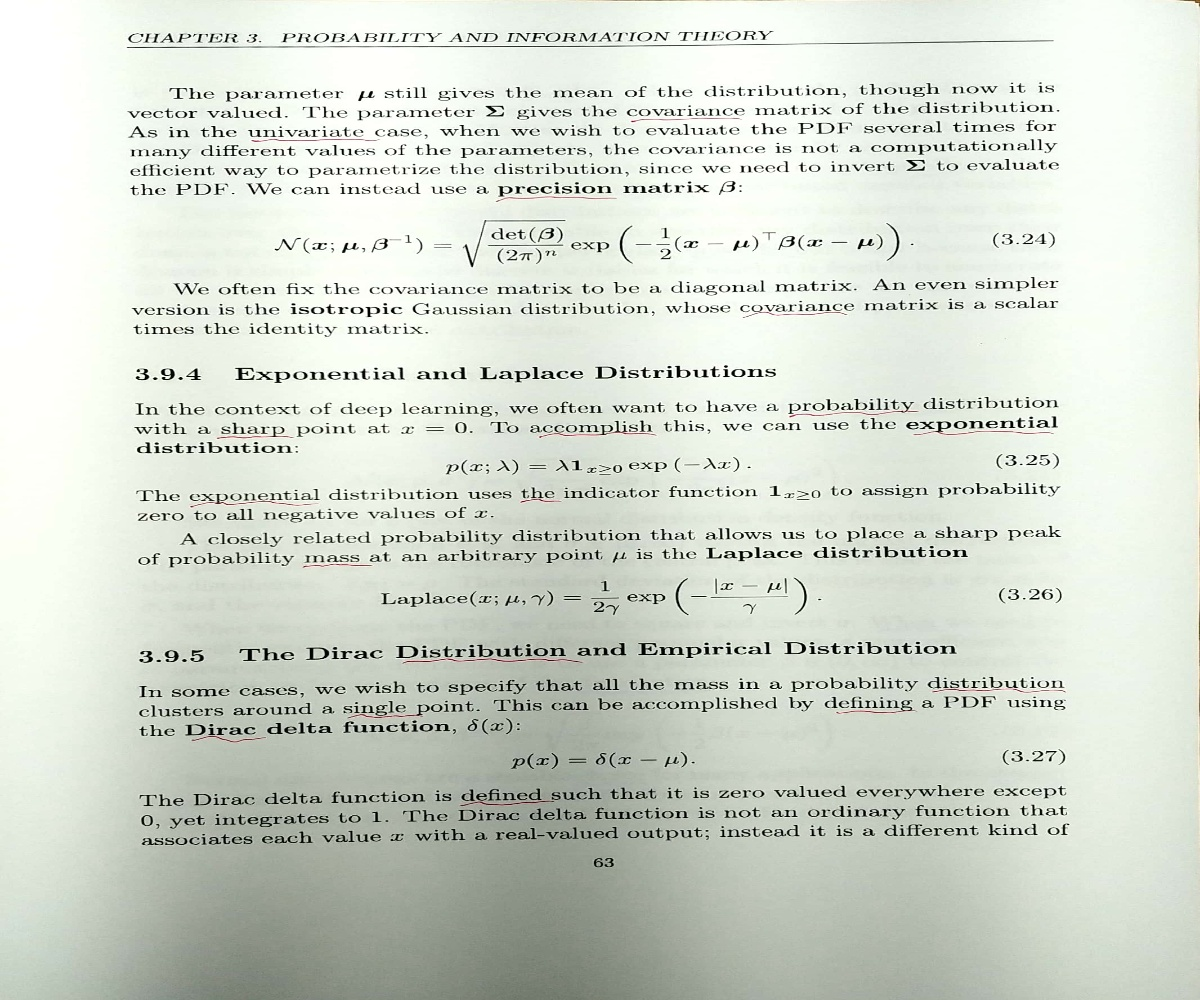underline: (905, 426, 1065, 443), (621, 110, 754, 128), (243, 133, 392, 149), (735, 302, 852, 321), (391, 656, 593, 667), (186, 498, 327, 511), (923, 684, 1074, 696), (335, 708, 439, 725), (533, 428, 666, 441), (487, 193, 631, 205), (786, 408, 918, 419), (179, 732, 282, 746), (826, 705, 924, 719), (454, 799, 564, 811), (292, 559, 378, 573), (211, 433, 305, 444), (516, 491, 568, 507)
